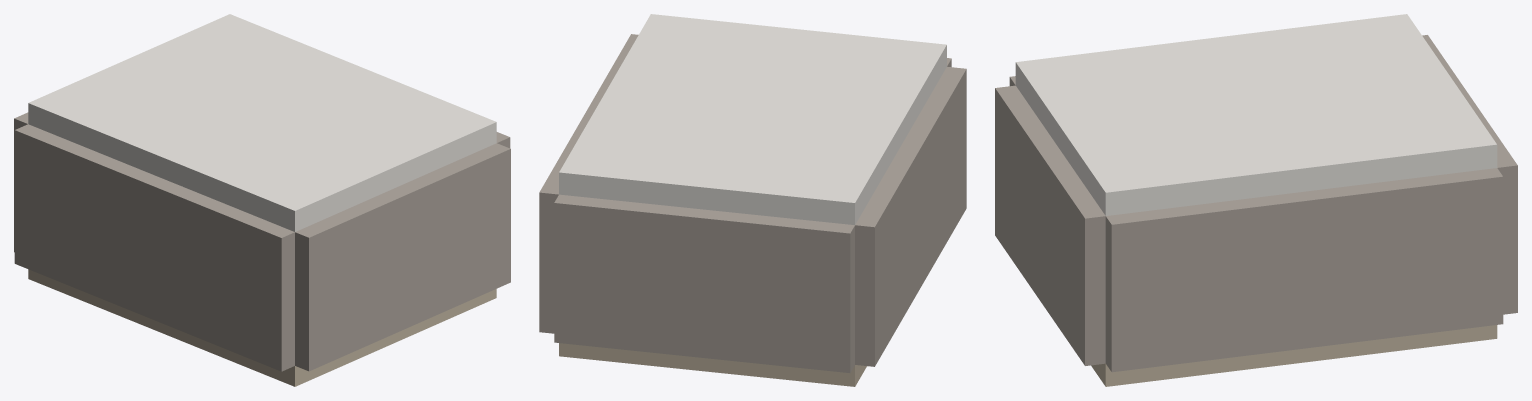
The picture shows the model from 3 angles, left to right: view 1: azimuth 30°, elevation 25°; view 2: azimuth 150°, elevation 25°; view 3: azimuth 270°, elevation 25°; orthographic projection. The views are drawn at different scales.
Visible parts, largest first — view 1: Ceiling, Wall_04, Wall_01, Floor; view 2: Ceiling, Wall_03, Wall_04, Floor, Wall_02; view 3: Ceiling, Wall_02, Wall_01, Floor, Wall_03.
Boxes of the visible parts, x1,y1,x2,y2 form: Ceiling: (28,14,496,231); Wall_04: (14,124,294,371); Wall_01: (295,143,510,371); Floor: (28,269,496,386); Ceiling: (559,14,946,224); Wall_03: (554,194,854,372); Wall_04: (855,66,966,366); Floor: (559,343,866,386); Wall_02: (539,34,638,333); Ceiling: (1015,14,1497,215); Wall_02: (1105,168,1503,372); Wall_01: (995,85,1105,365); Floor: (1091,325,1497,386); Wall_03: (1422,35,1517,314).
Size of the model in its own units: 5.41 by 2.5 by 6.09.
